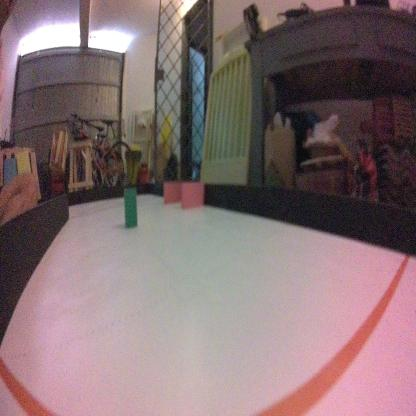green: (124, 186, 138, 228)
magenta: (178, 174, 202, 210), (163, 176, 183, 207)
